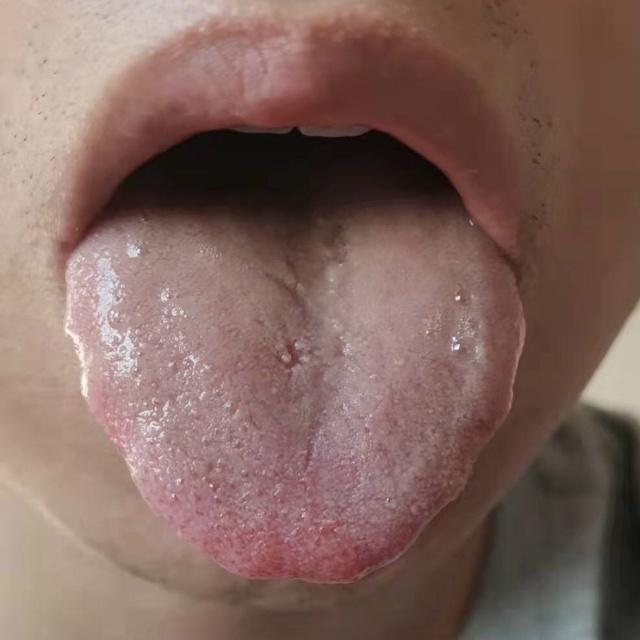baitaishe: (63, 210, 528, 586)
chihenshe: (64, 320, 98, 420)
pangdashe: (64, 209, 529, 585)
